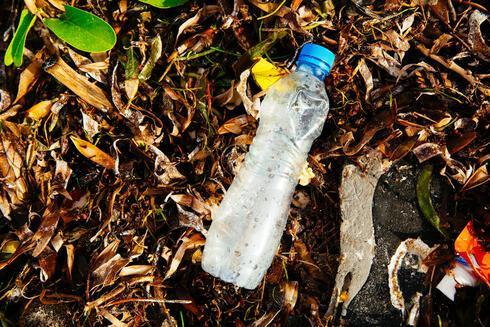bottle: (201, 43, 338, 287)
